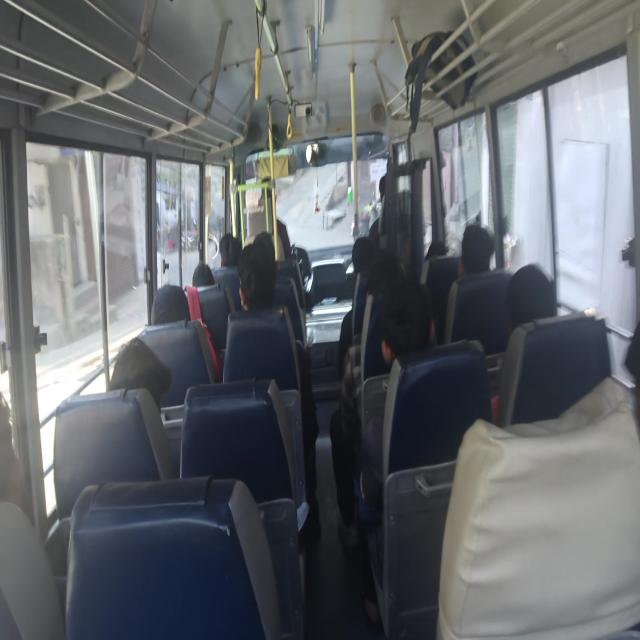person: (0, 394, 58, 582), (120, 318, 189, 430), (381, 308, 446, 398), (516, 262, 579, 328), (237, 245, 272, 333), (152, 283, 188, 334), (462, 223, 497, 274), (369, 258, 412, 298), (349, 235, 402, 265), (254, 224, 290, 266), (198, 263, 220, 308), (222, 234, 244, 266), (432, 236, 456, 260)
